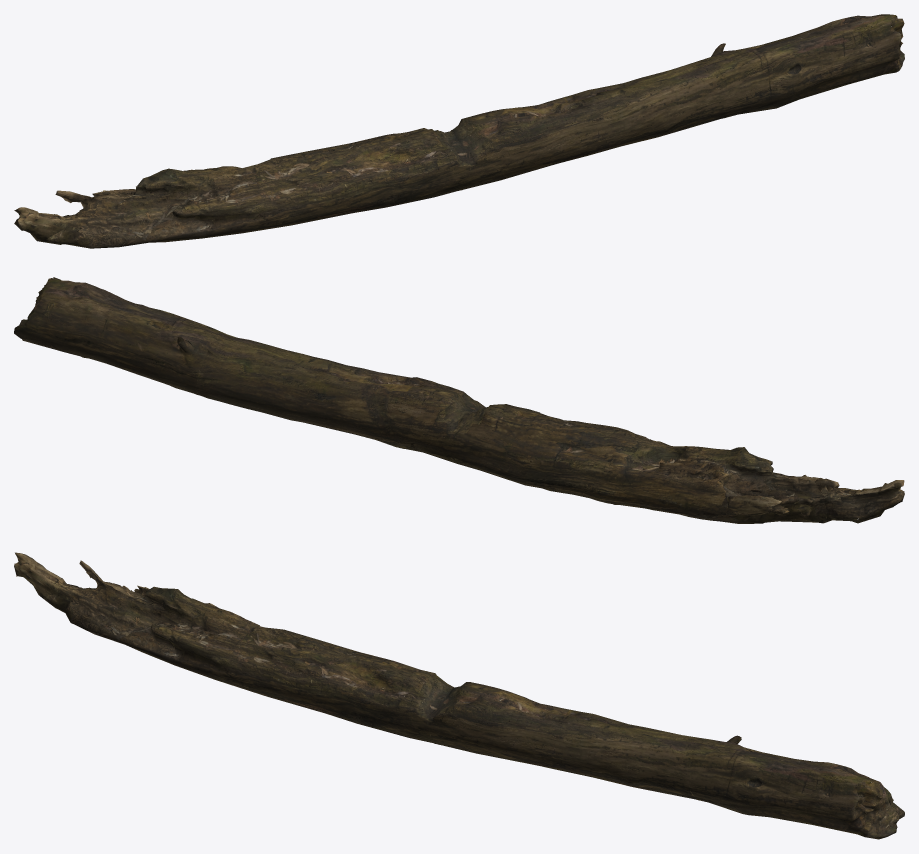
File: dead_tree_trunk_LOD1.fbx
3 renders of one model, top to bottom at view 1: azimuth 30°, elevation 25°; view 2: azimuth 150°, elevation 25°; view 3: azimuth 330°, elevation 25°, orthographic.
Visible parts, largest first — view 1: dead_tree_trunk.001; view 2: dead_tree_trunk.001; view 3: dead_tree_trunk.001.
Boxes of the visible parts, x1=… form: dead_tree_trunk.001: x1=14, y1=14, x2=904, y2=248; dead_tree_trunk.001: x1=14, y1=277, x2=904, y2=523; dead_tree_trunk.001: x1=14, y1=552, x2=904, y2=839.
Bounding box in the file's own units: 3.05 × 0.2881 × 0.2775.
1 material, 1 textured.
